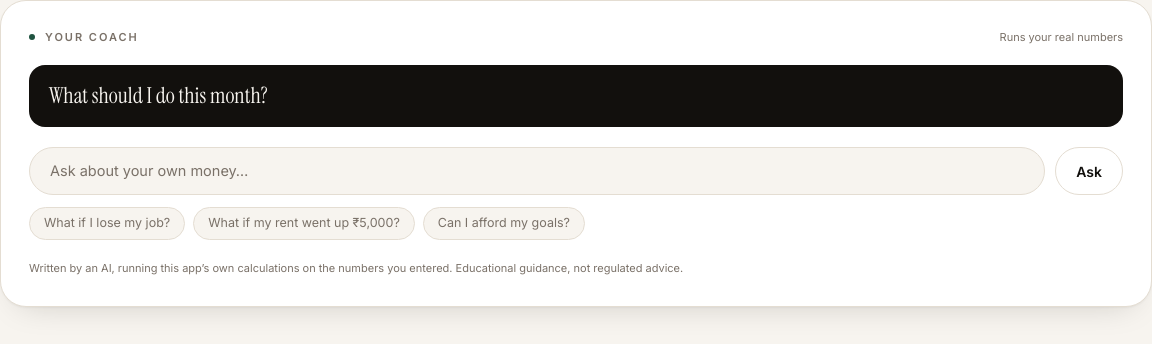
regression: the answer shows up when the card is inside StrictMode
The width and height of the screenshot is (1152, 344).
Click the button "What should I do this month?".
click(158, 96)  # box [29,65,1123,127]
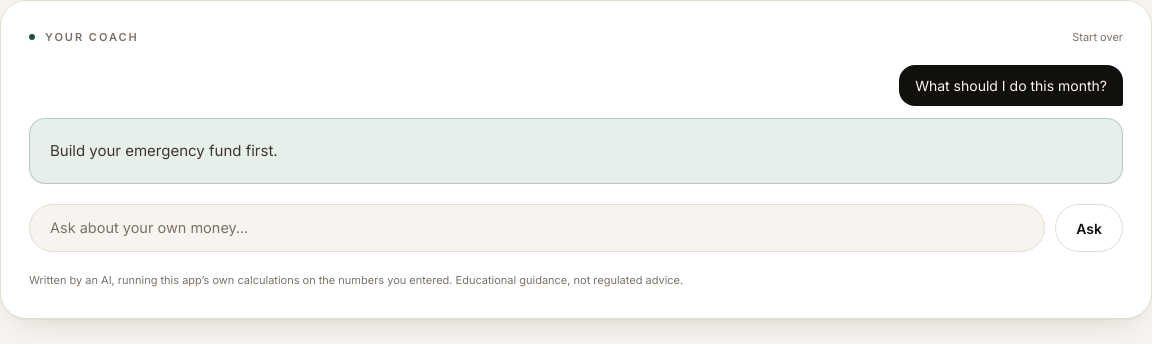
Expected: the text "Build your emergency fund first." is shown, [50,141,278,160]
